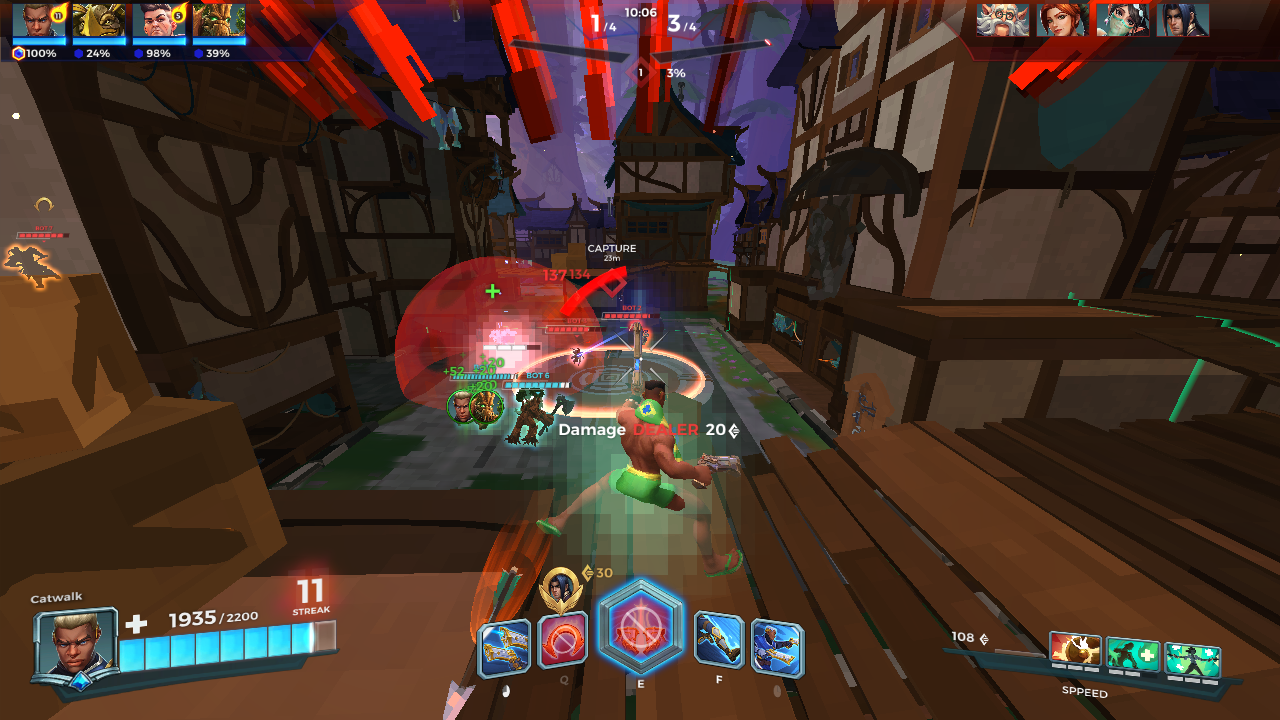model: (2, 242, 60, 296), (570, 341, 586, 367)
